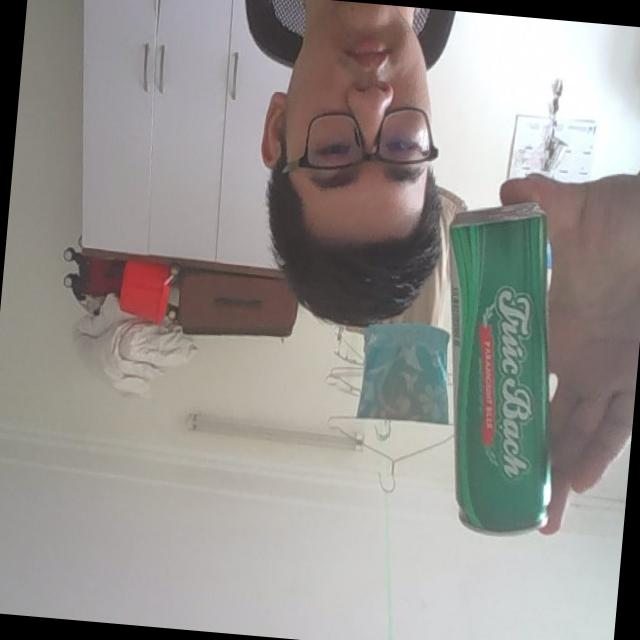Bia-Truc-Bach: (422, 196, 574, 540)
